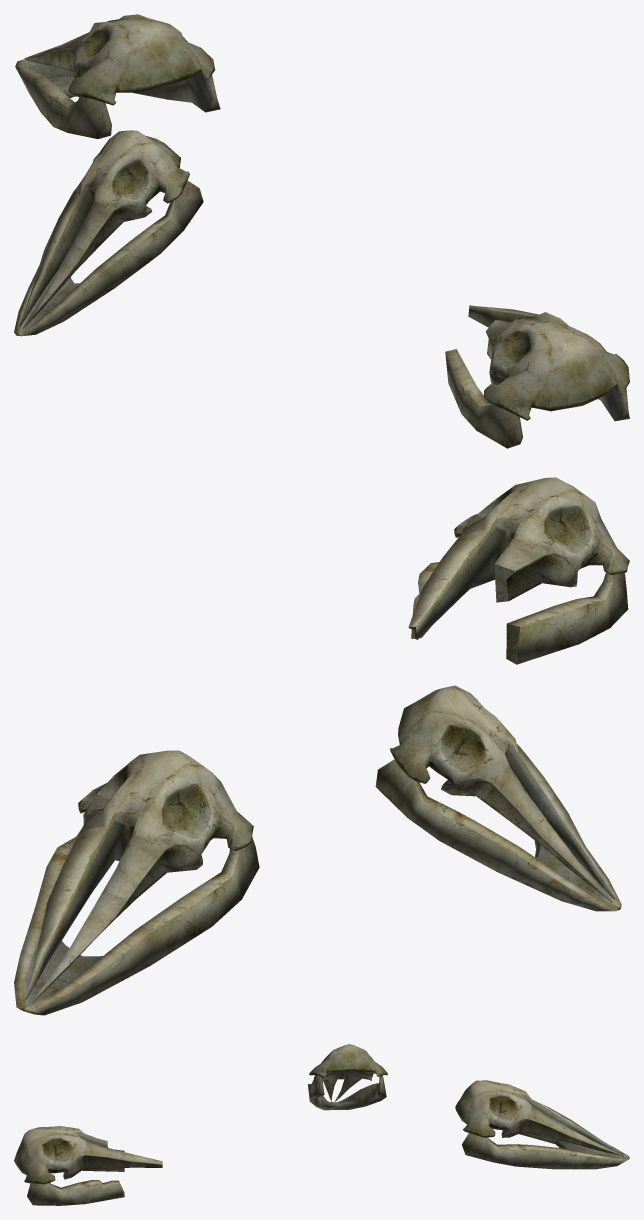
The model's file is bone_whale_lump00a.fbx.
3 renders of one model, top to bottom at view 1: azimuth 30°, elevation 25°; view 2: azimuth 150°, elevation 25°; view 3: azimuth 270°, elevation 25°, orthographic. The views are drawn at different scales.
Visible parts, largest first — view 1: bone_whale_lump00a; view 2: bone_whale_lump00a; view 3: bone_whale_lump00a.
Part boxes in pixels (x1,y1,x2,y2): bone_whale_lump00a: (14, 14, 629, 448); bone_whale_lump00a: (14, 477, 629, 1015); bone_whale_lump00a: (14, 1044, 629, 1205).
Bounding box in the file's own units: 18.45 × 7.71 × 43.74.
